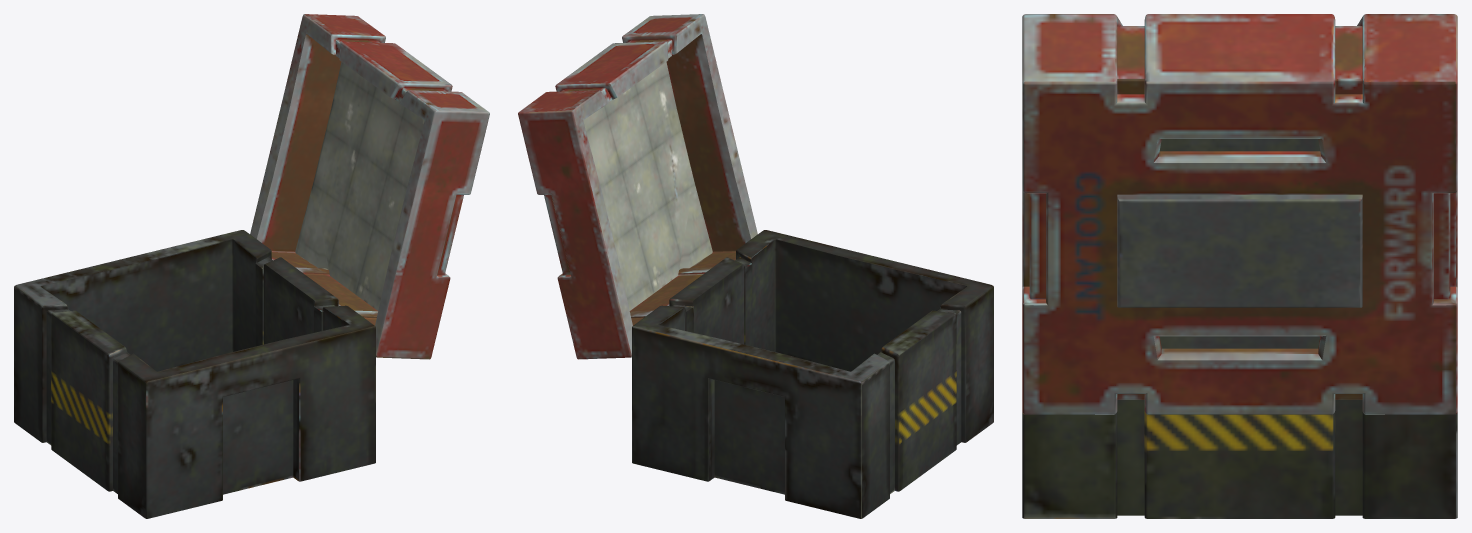
File: SM_Crates_LP_polySurface61.fbx
The picture shows the model from 3 angles, left to right: view 1: azimuth 30°, elevation 25°; view 2: azimuth 150°, elevation 25°; view 3: azimuth 270°, elevation 25°; orthographic projection. The views are drawn at different scales.
Visible parts, largest first — view 1: SM_Crates_LP_polySurface61_LOD0; view 2: SM_Crates_LP_polySurface61_LOD0; view 3: SM_Crates_LP_polySurface61_LOD0.
Boxes of the visible parts, x1,y1,x2,y2 form: SM_Crates_LP_polySurface61_LOD0: (14,14,489,518); SM_Crates_LP_polySurface61_LOD0: (518,14,993,518); SM_Crates_LP_polySurface61_LOD0: (1022,14,1457,518).
Bounding box in the file's own units: 89.67 × 60 × 83.98.
1 material, 1 textured.
